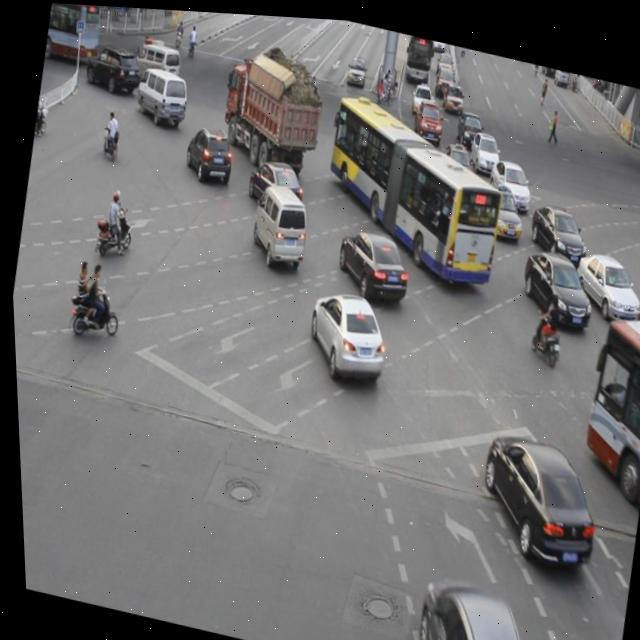bus: (215, 51, 327, 173)
car: (463, 421, 603, 566), (399, 562, 541, 640), (297, 279, 390, 384), (512, 239, 595, 324), (329, 217, 412, 302), (566, 239, 640, 317), (520, 192, 589, 261), (240, 149, 307, 216), (180, 120, 236, 184), (475, 175, 525, 235), (481, 149, 533, 205), (435, 135, 479, 186)
truck: (244, 175, 312, 267), (131, 63, 192, 128)
van: (310, 85, 514, 282), (568, 303, 640, 499)
